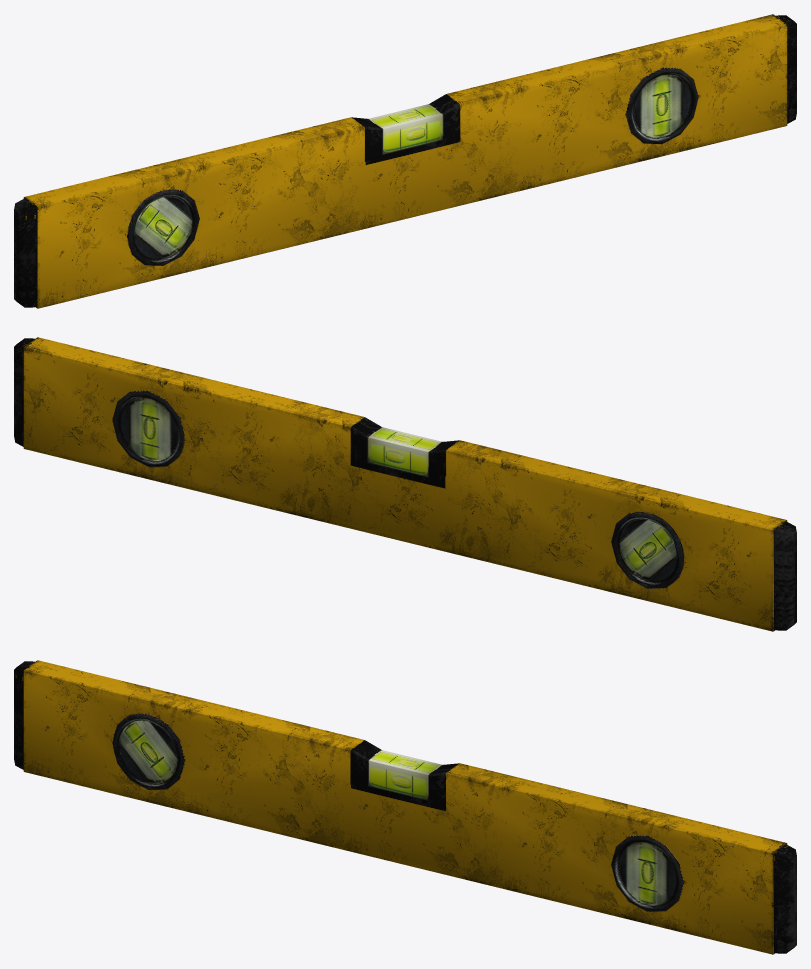
File: Level01.FBX
The picture shows the model from 3 angles, top to bottom: view 1: azimuth 30°, elevation 25°; view 2: azimuth 150°, elevation 25°; view 3: azimuth 330°, elevation 25°; orthographic projection.
Visible parts, largest first — view 1: Level01_LOD0; view 2: Level01_LOD0; view 3: Level01_LOD0.
Part boxes in pixels (x1=…): Level01_LOD0: x1=14, y1=14, x2=796, y2=308; Level01_LOD0: x1=14, y1=337, x2=796, y2=631; Level01_LOD0: x1=14, y1=660, x2=796, y2=954.
Size of what is drawn, in the model's own units: 58.99 by 7.38 by 2.29.
